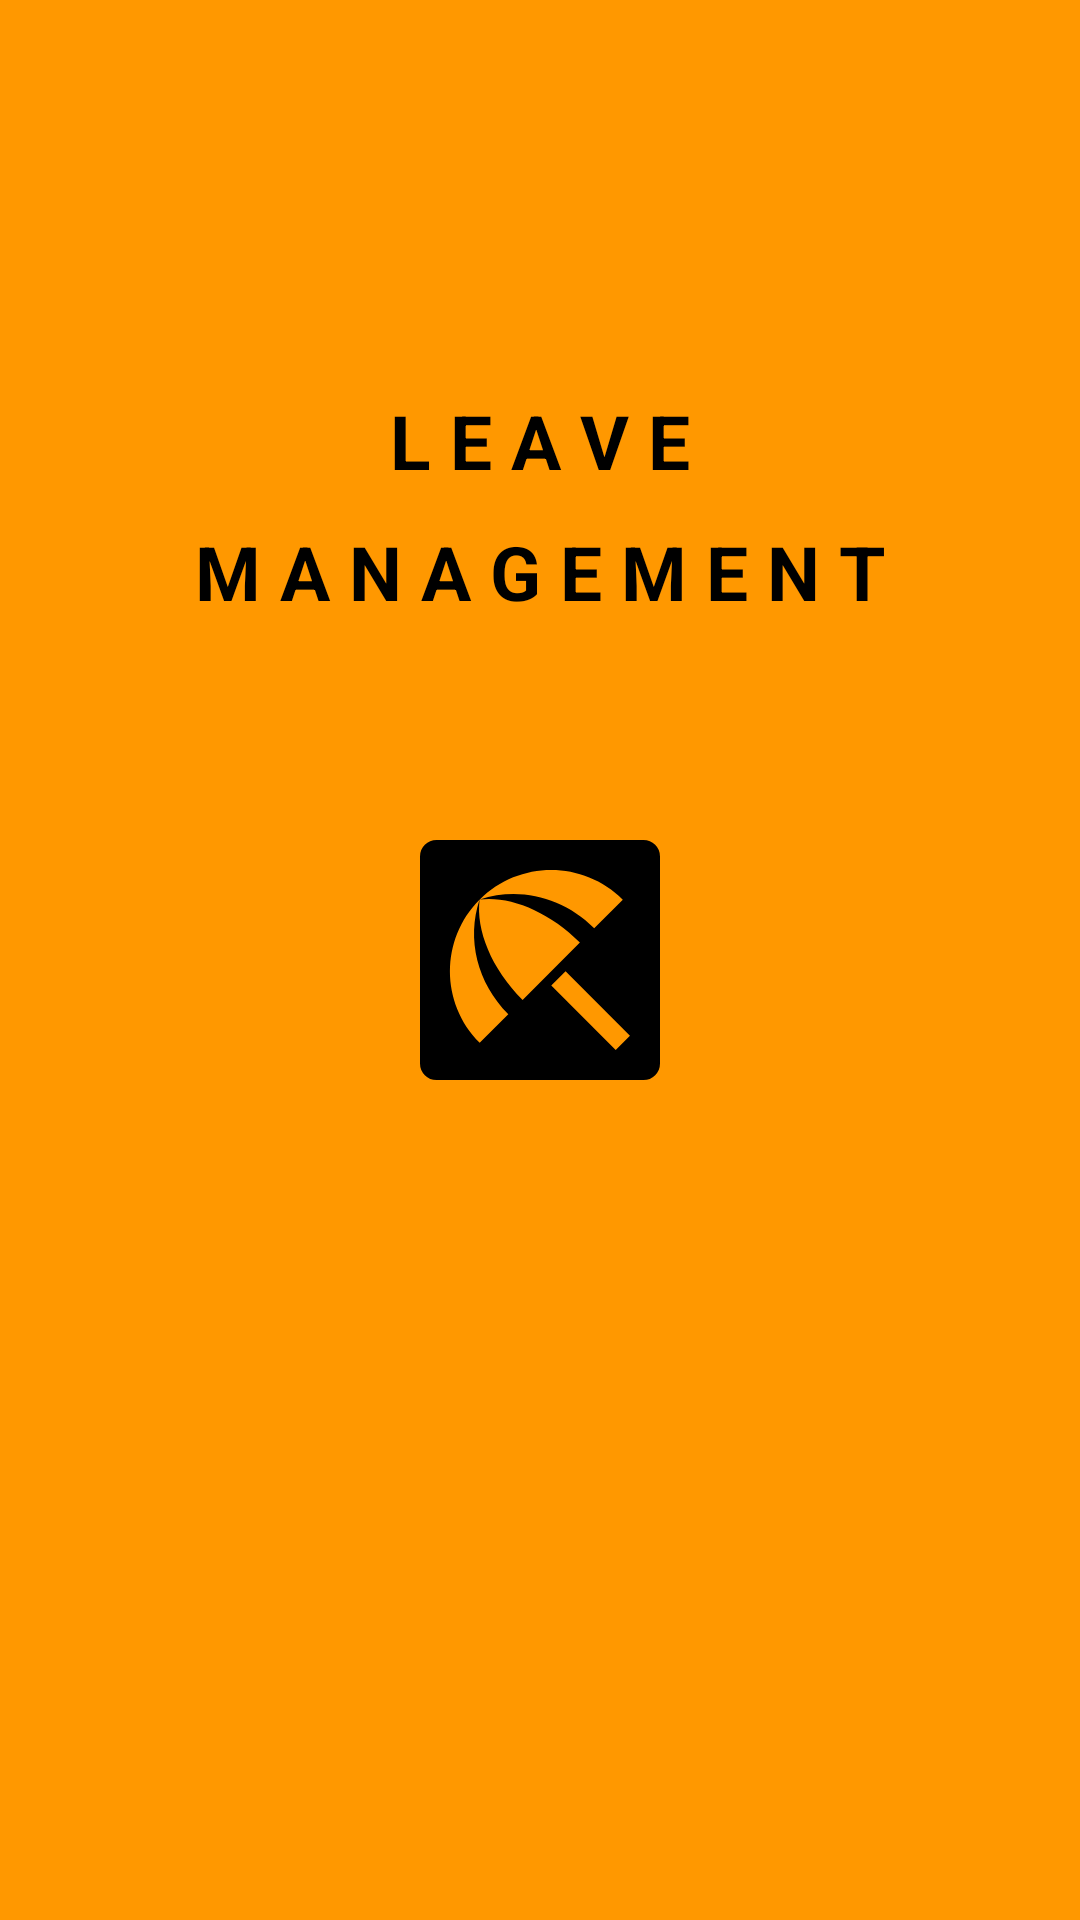

Icons on this 1080*1920 Android screen, each with its box as Rect(x1, y1, x2, y2):
beach access: Rect(420, 840, 660, 1080)
